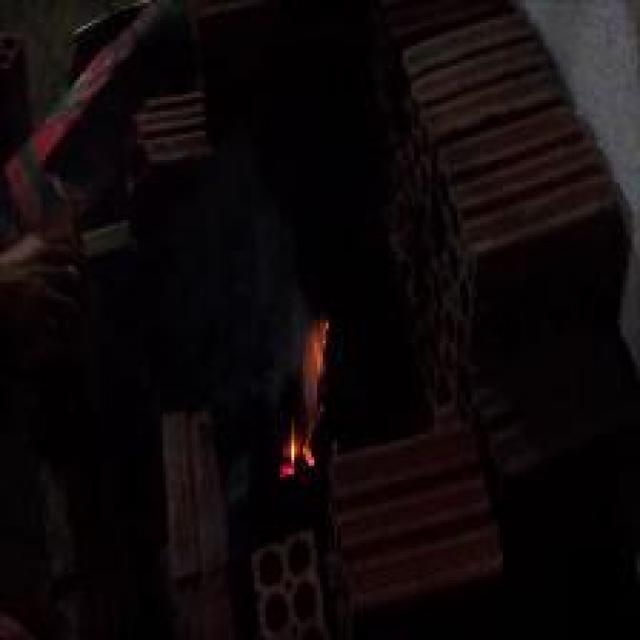Fire: (281, 316, 330, 478)
